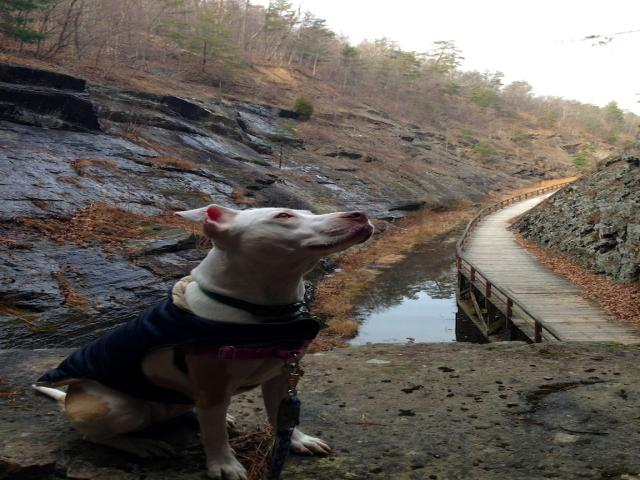Dog: (28, 203, 376, 479)
